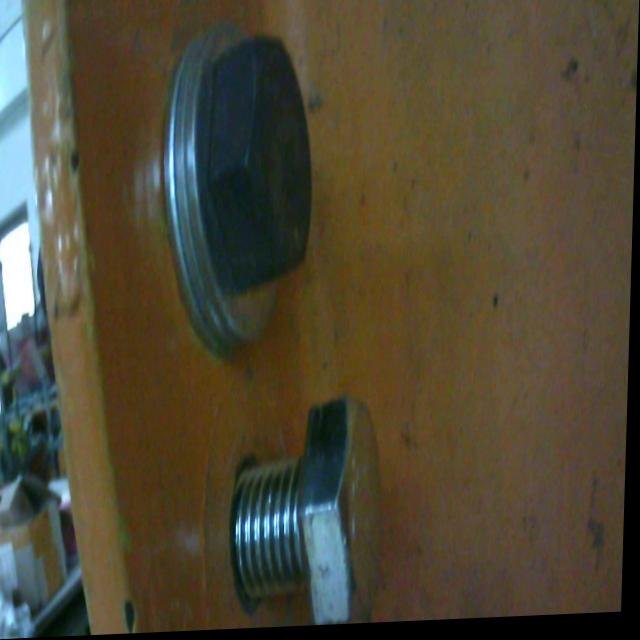Loose bolt: (226, 390, 389, 633)
Regular bolt: (236, 402, 375, 631)
Rusty bolt: (163, 28, 320, 351)
